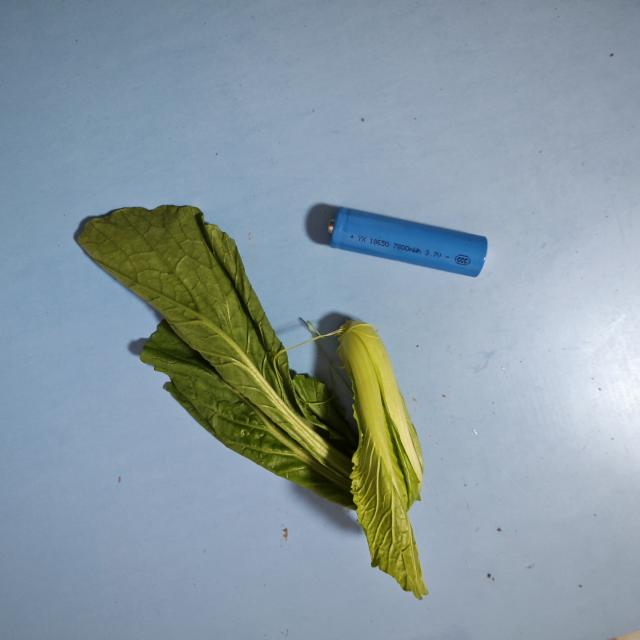-Hazardous waste - battery-: (323, 196, 493, 276)
-Kitchen waste - vegetable roots and leaves-: (71, 196, 352, 506), (332, 321, 456, 594)
